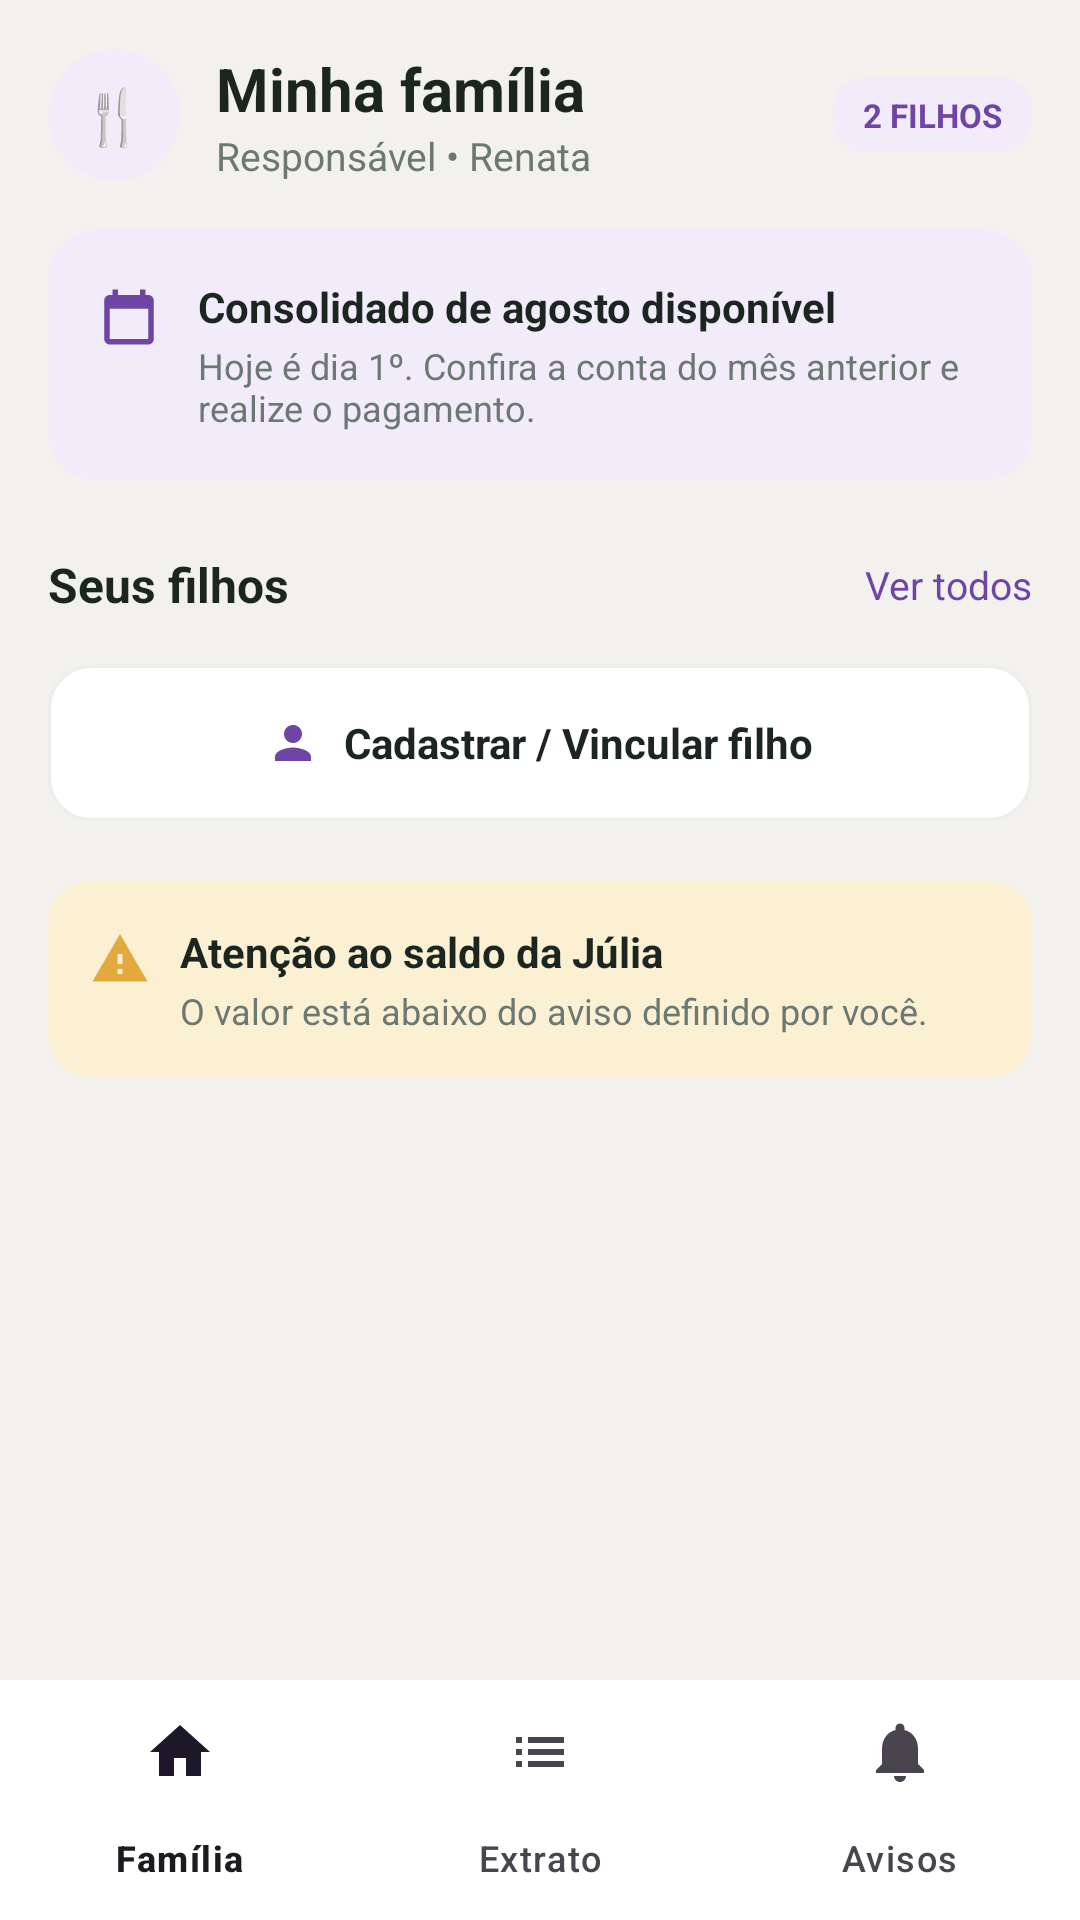

Icon click points for this 1080 × 1920 phone screenshot, format (x,y):
calendar: (129,317)
person: (293,743)
warning: (120,958)
